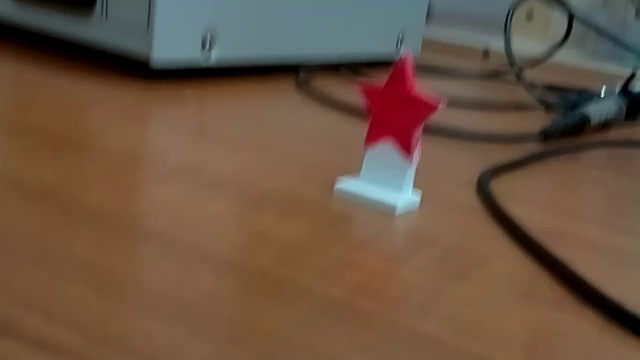star: (331, 43, 453, 219)
